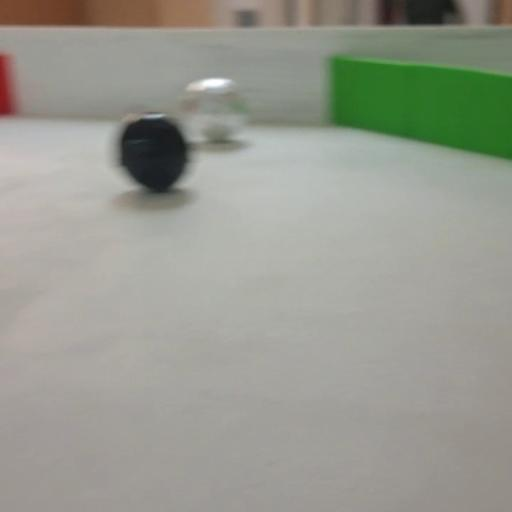alive: (178, 77, 251, 145)
dead: (113, 111, 193, 192)
